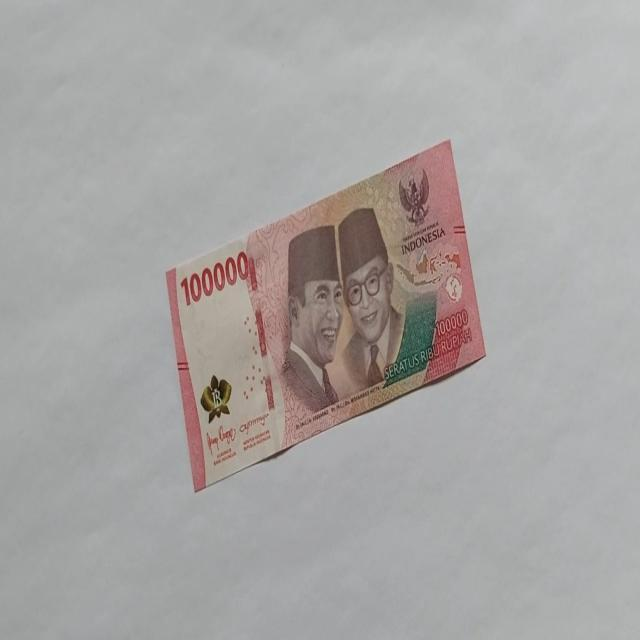seratus ribu rupiah: (165, 136, 487, 492)
